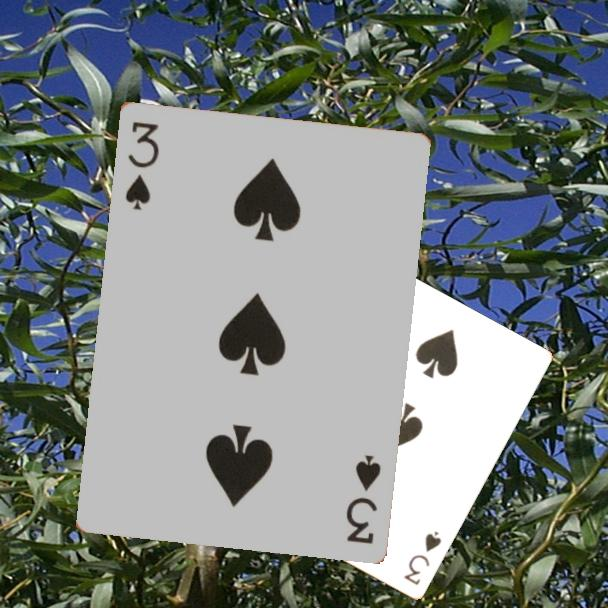s03: (121, 117, 162, 213), (343, 450, 384, 546), (400, 528, 444, 589)
